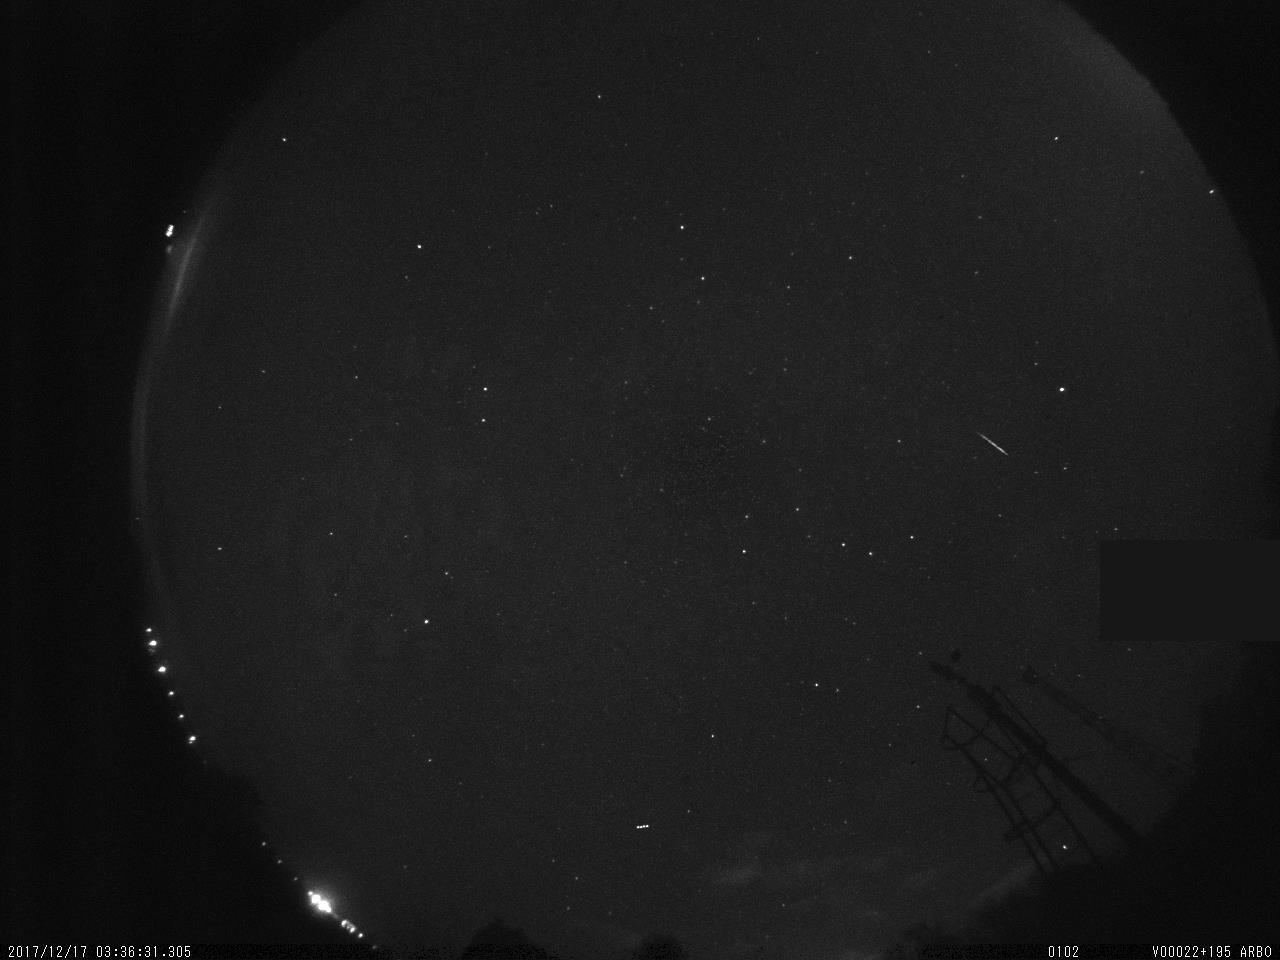meteor: (954, 406, 1047, 475)
